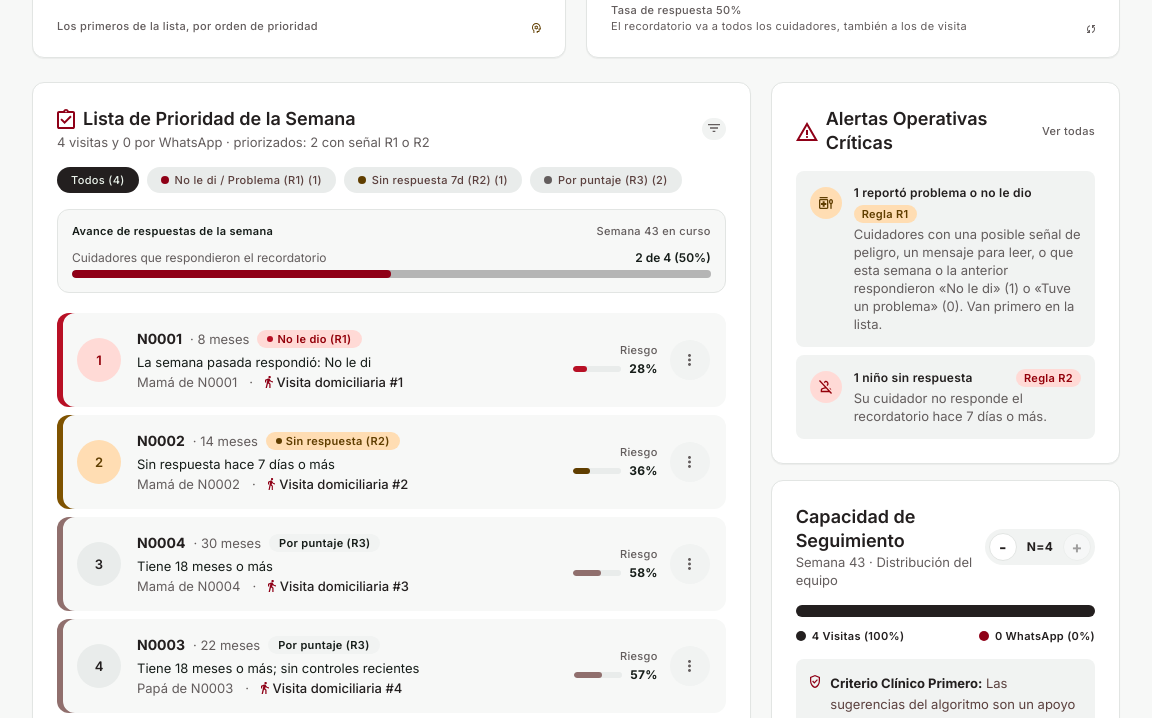
Test: Pantalla de Inicio › no muestra datos que la API no tiene ni datos que chocan con las reglas del proyecto
(page scrolled)
Expected: the list named "Niños de la lista de la semana" is shown, x1=57 y1=313 x2=726 y2=713
# Sin alarmas pendientes, el menú conserva únicamente los accesos a otras pantallas.
Click the button named "Más opciones para N0001".
click(690, 360)  # box x1=670 y1=340 x2=710 y2=380
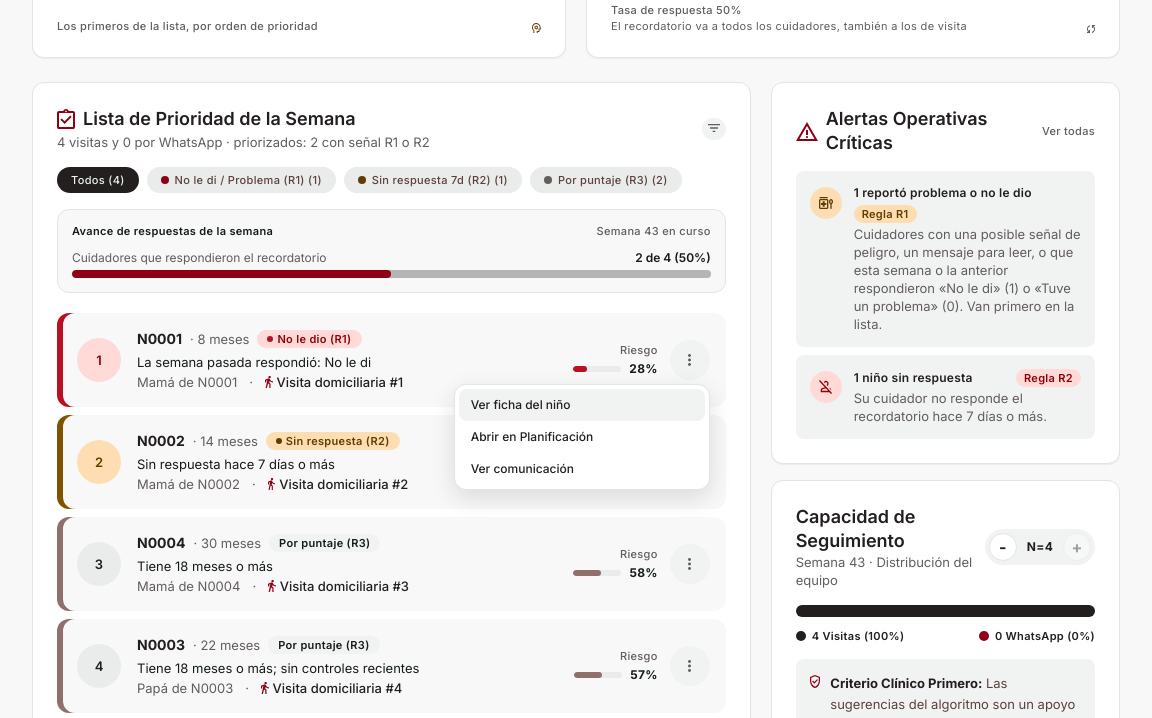
Result: the menu items read "Ver ficha del niño", "Abrir en Planificación", "Ver comunicación", in this order at x1=459 y1=389 x2=705 y2=421; x1=471 y1=429 x2=593 y2=444; x1=471 y1=461 x2=574 y2=476
